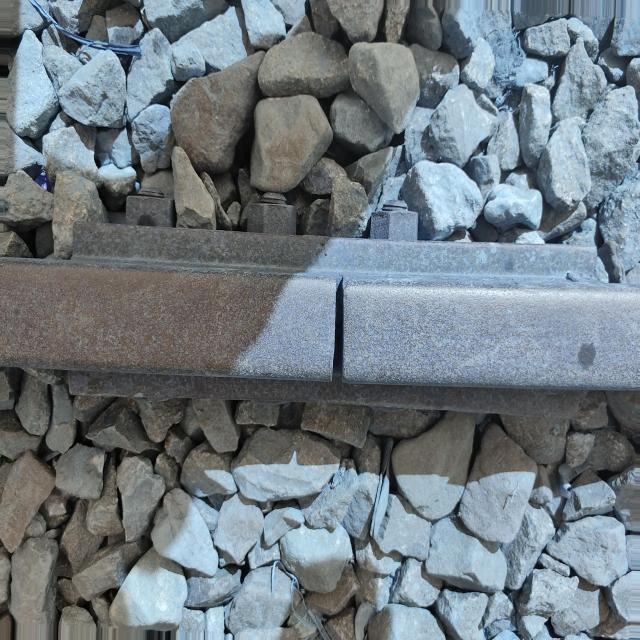crack: (316, 238, 367, 410)
